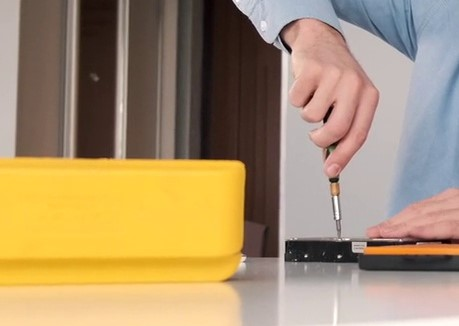screwdriver: (317, 88, 345, 239)
